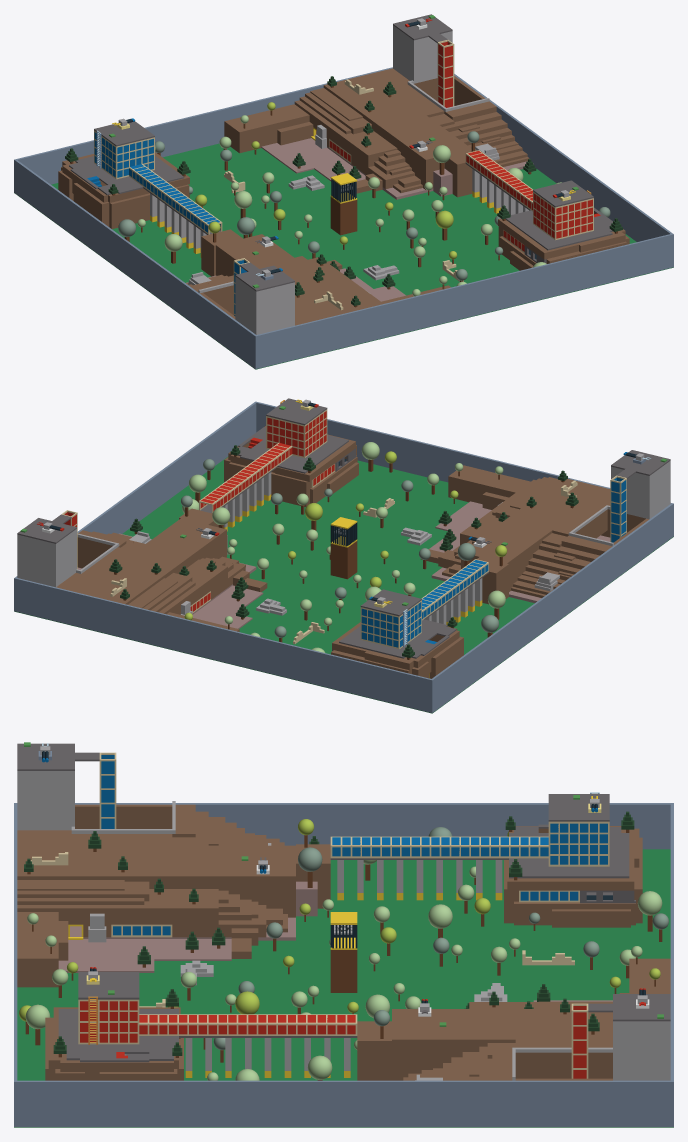
File: GlassHouse.gltf
3 renders of one model, top to bottom at view 1: azimuth 30°, elevation 25°; view 2: azimuth 150°, elevation 25°; view 3: azimuth 270°, elevation 25°, orthographic. The views are drawn at different scales.
Visible parts, largest first — view 1: Smooth Block Model (×25), Floor, Front Wall, Left Wall, Back Wall, Right Wall; view 2: Smooth Block Model (×25), Floor, Back Wall, Left Wall, Right Wall, Front Wall; view 3: Smooth Block Model (×36), Floor, Right Wall, Left Wall, Front Wall, Back Wall.
Boxes of the visible parts, x1,y1,x2,y2 form: Smooth Block Model (×25): (73,25,612,334); Floor: (14,143,673,369); Front Wall: (254,233,673,369); Left Wall: (15,160,255,367); Back Wall: (14,67,392,192); Right Wall: (454,74,672,241); Smooth Block Model (×25): (17,434,670,678); Floor: (14,456,673,713); Back Wall: (14,577,433,713); Left Wall: (432,504,672,711); Right Wall: (15,402,256,577); Front Wall: (255,401,673,536); Smooth Block Model (×36): (17,752,670,1080); Floor: (14,849,673,1127); Right Wall: (17,1080,670,1126); Left Wall: (75,803,670,849); Front Wall: (14,803,17,1126); Back Wall: (670,803,673,1126).
Bounding box in the file's own units: 400 × 77.2 × 400.
Materials: 30 (1 with a texture image).
